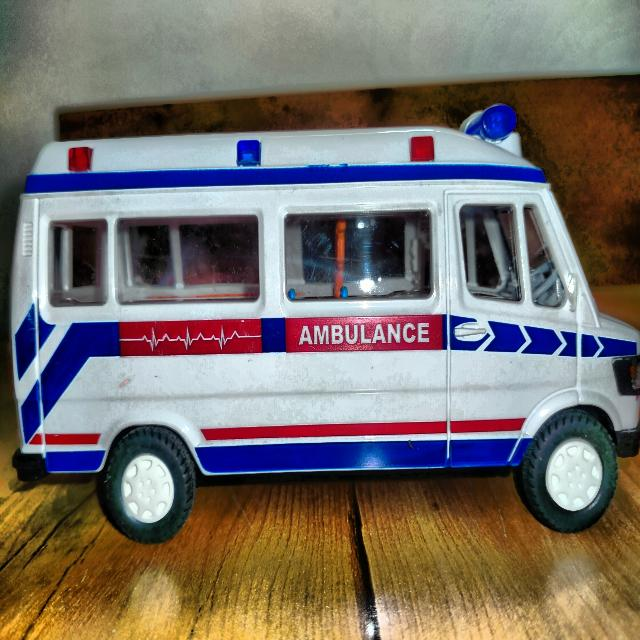Ambulance: (10, 106, 640, 543)
